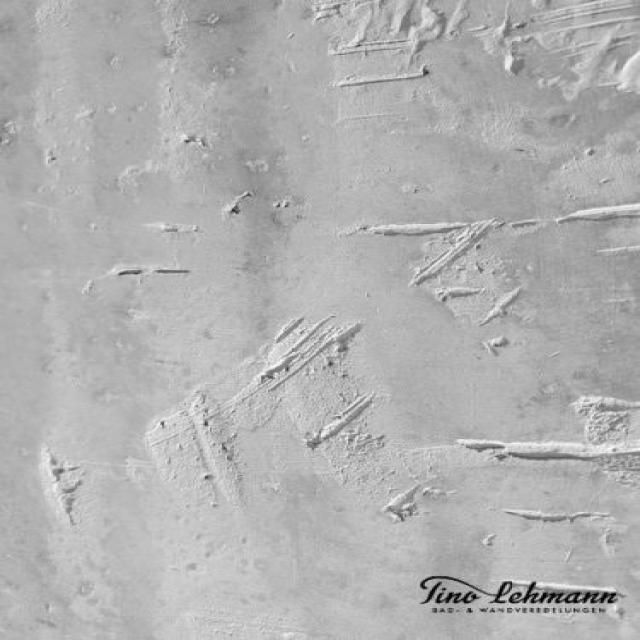trowels marks: (31, 4, 640, 609)
